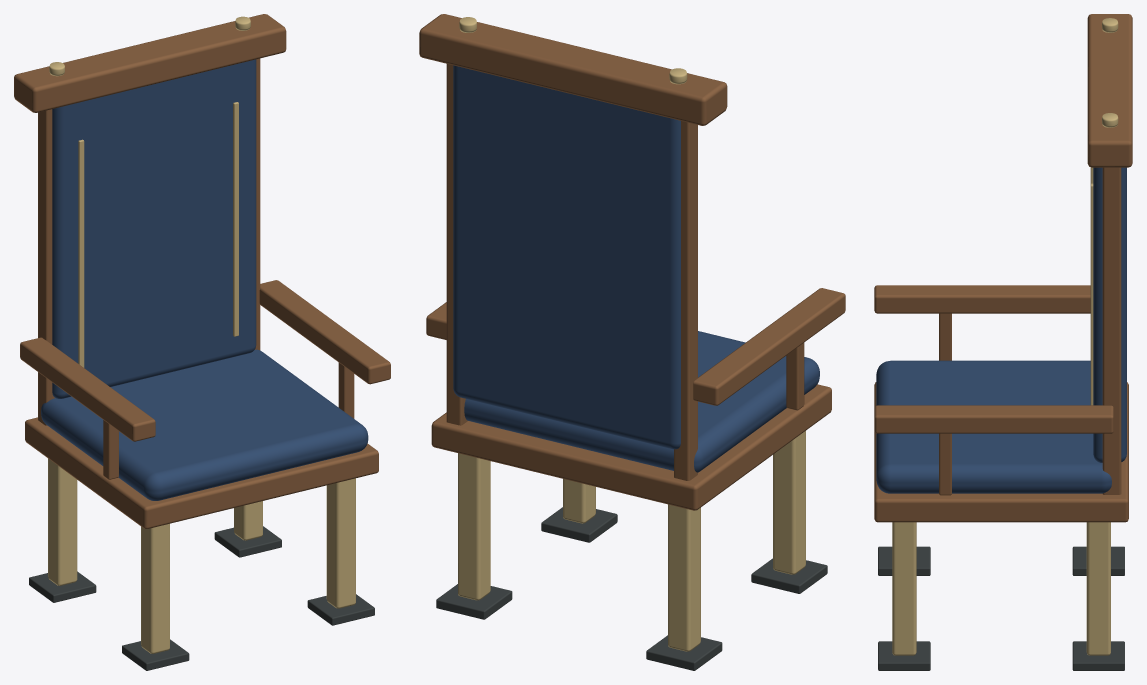
The model's file is city-courthouse-and-records-office-city-courthouse-and-4f5e9e35__30956.glb.
3 renders of one model, left to right at view 1: azimuth 30°, elevation 25°; view 2: azimuth 150°, elevation 25°; view 3: azimuth 270°, elevation 25°, orthographic. The views are drawn at different scales.
Parts seen in each view (by area): view 1: city-courthouse-and-records-office-judge-chair; view 2: city-courthouse-and-records-office-judge-chair; view 3: city-courthouse-and-records-office-judge-chair.
Part boxes in pixels (box(x1,y1,x2,y2)): city-courthouse-and-records-office-judge-chair: box(14, 14, 390, 670); city-courthouse-and-records-office-judge-chair: box(419, 14, 845, 670); city-courthouse-and-records-office-judge-chair: box(874, 14, 1132, 670).
Bounding box in the file's own units: 0.8351 × 1.61 × 0.69.
